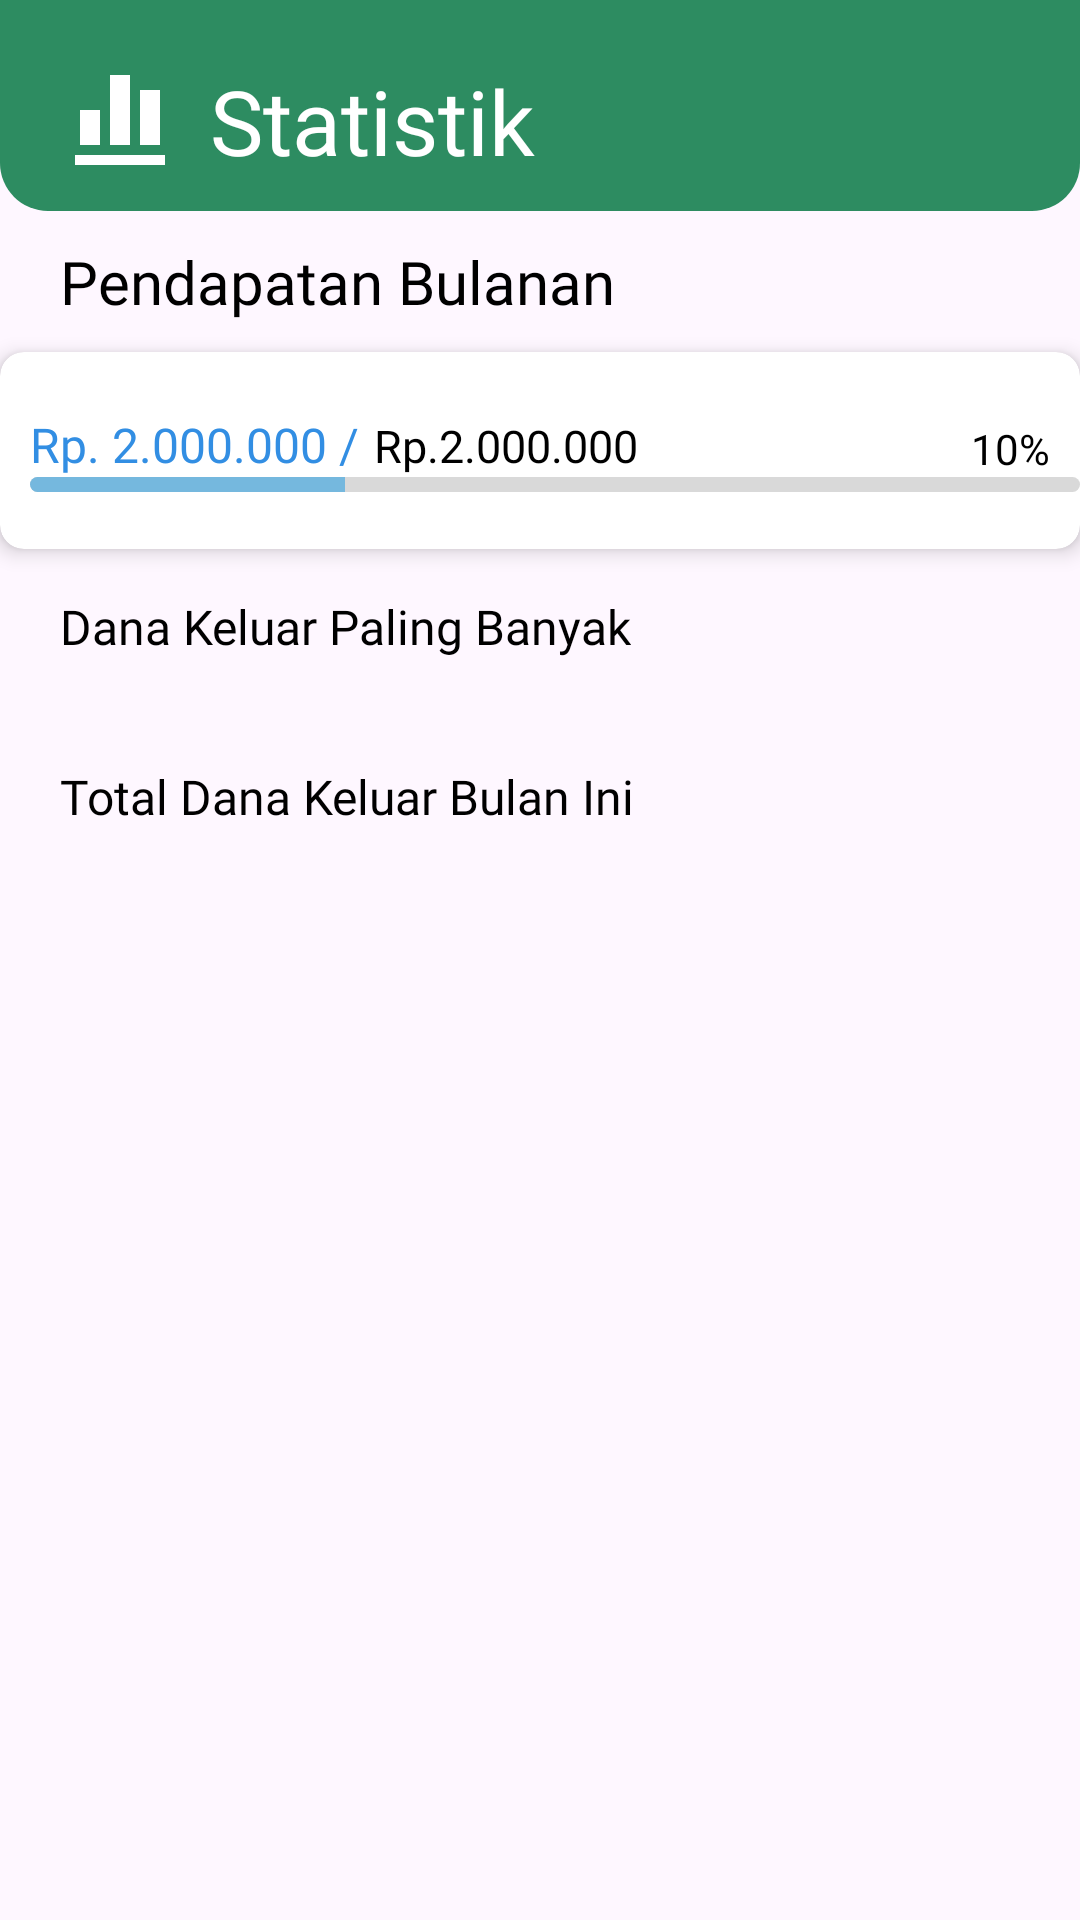

Named icons in this screenshot (1080×1920) and their centers, point (x, y):
statsicon: point (120, 120)
